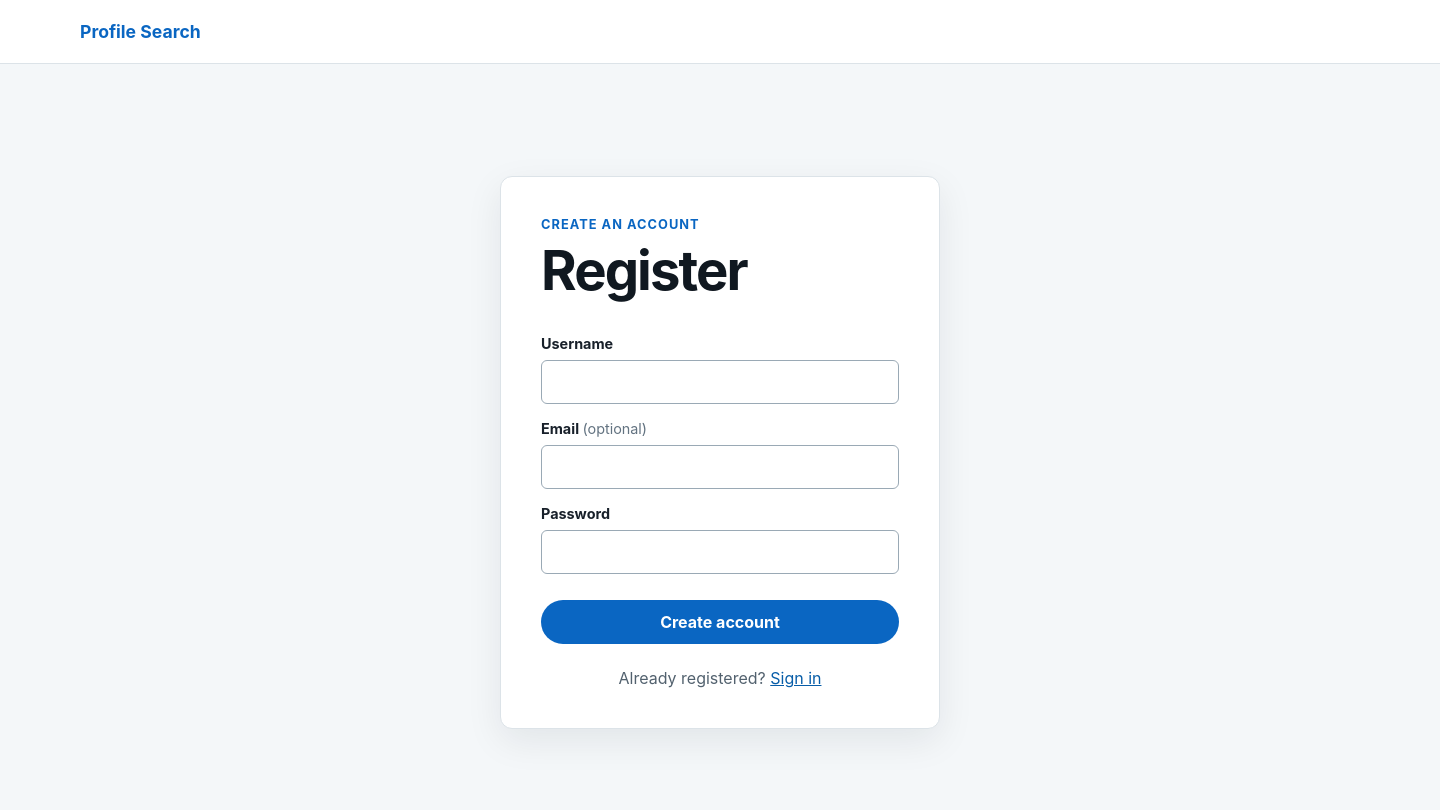
registration displays backend field errors
The image size is (1440, 810).
Expected: the heading "Register" is shown, left=541, top=237, right=747, bottom=303
Type "reviewer" into the field labelled "Username" at (720, 382), box left=541, top=360, right=899, bottom=404
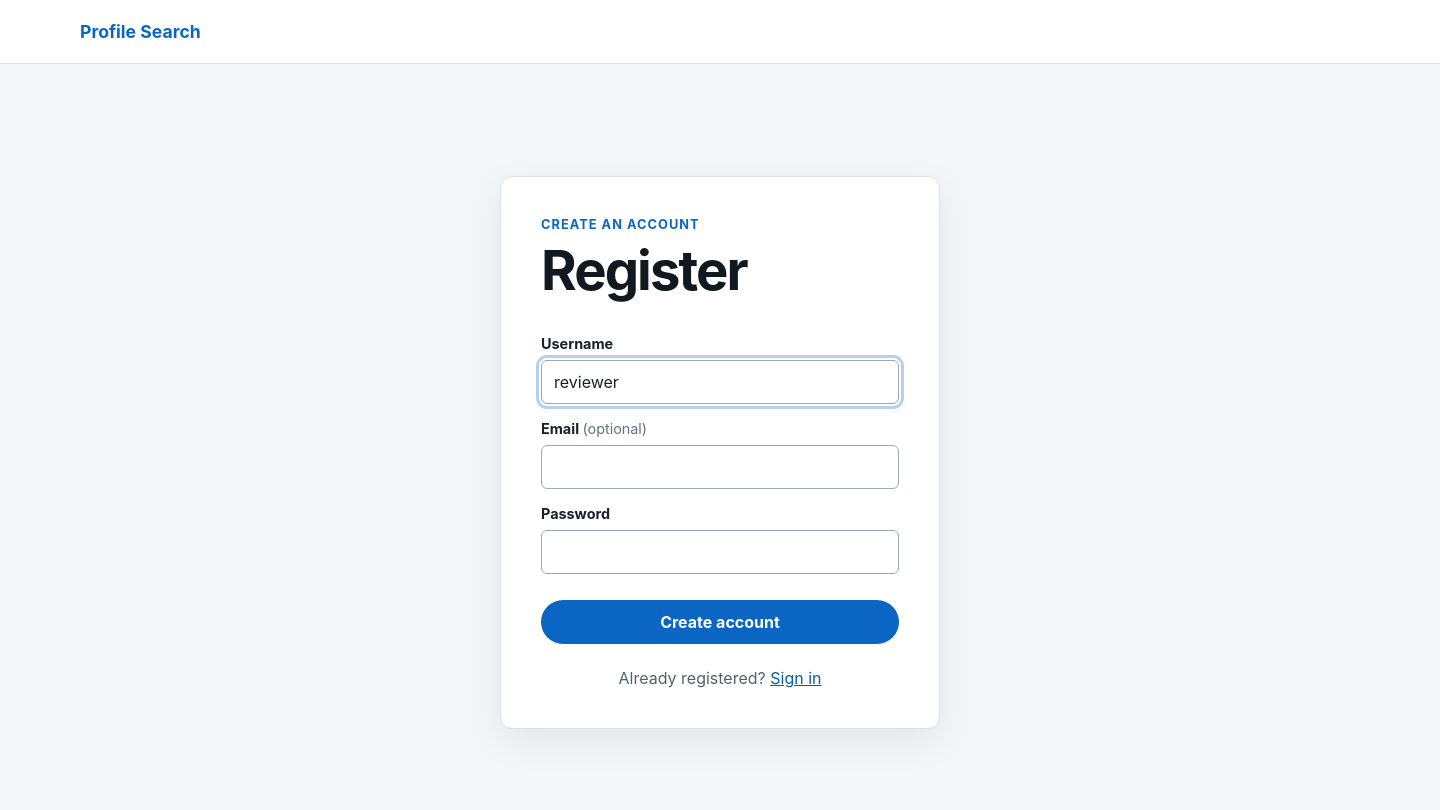
Type "password" into the password field labelled "Password" at (720, 552), box left=541, top=530, right=899, bottom=574
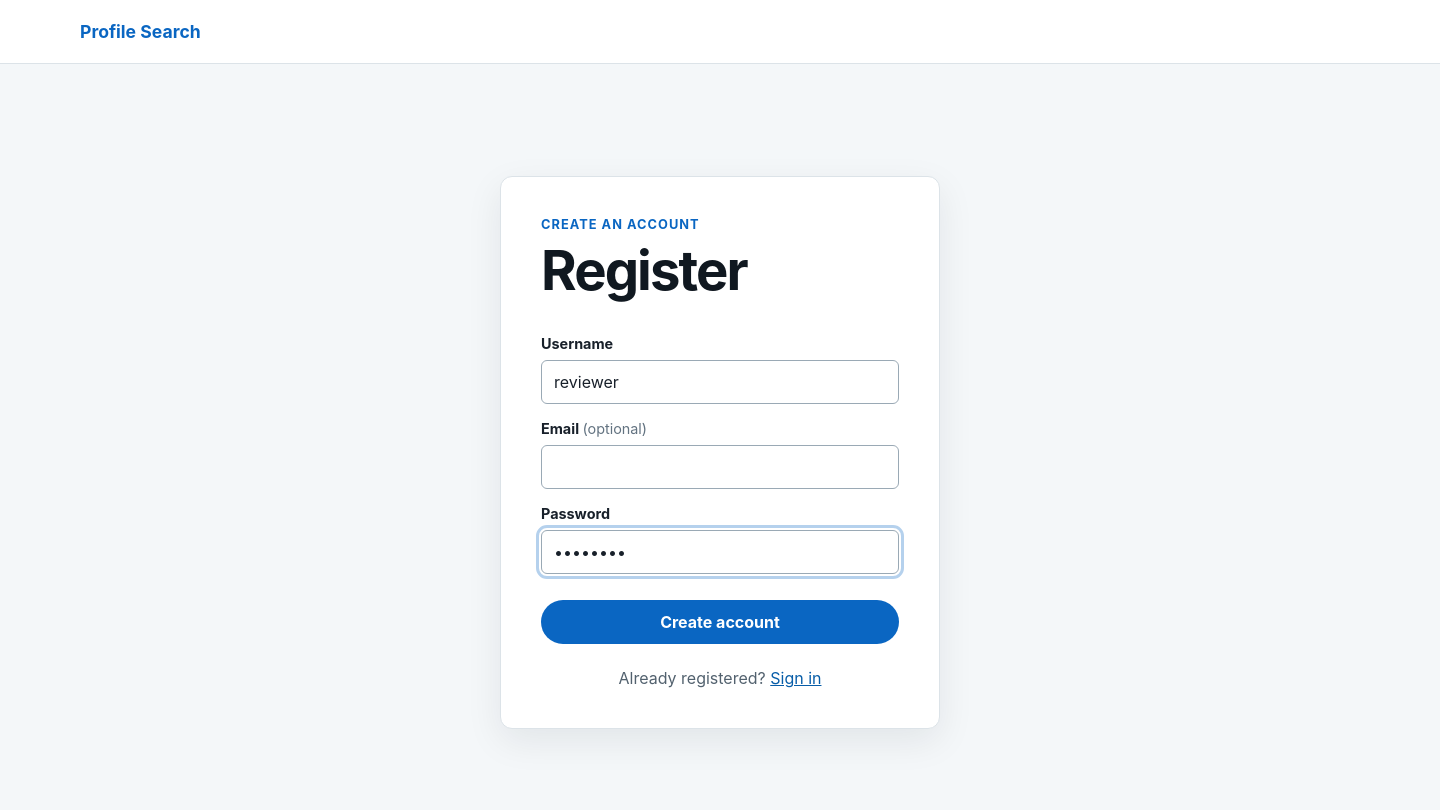
Click the button "Create account" at (720, 622), box left=541, top=600, right=899, bottom=644
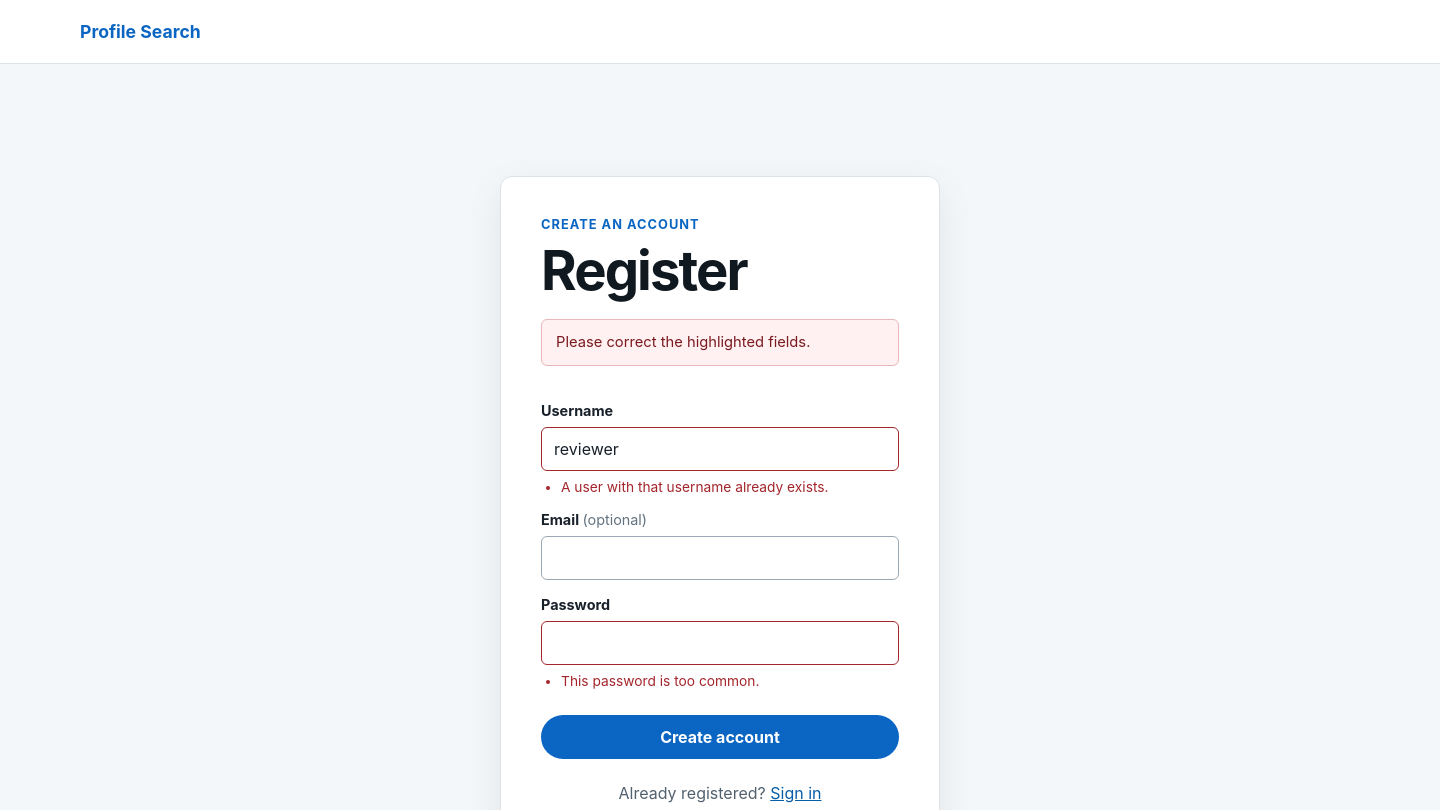
Expected: the list item "A user with that username already exists." is shown, left=561, top=480, right=828, bottom=496
Expected: the list item "This password is too common." is shown, left=561, top=674, right=759, bottom=690
